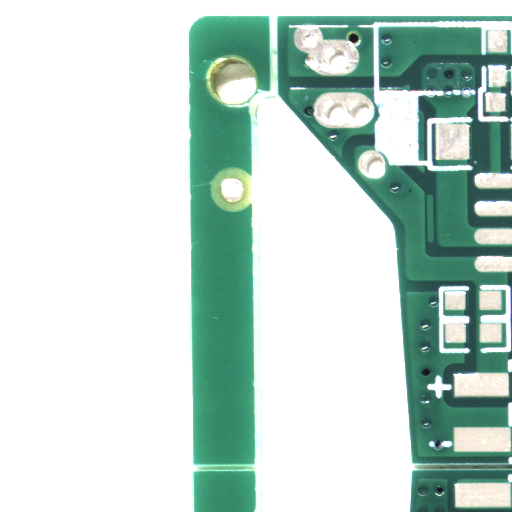Spurious_copper: (429, 218, 440, 271)
